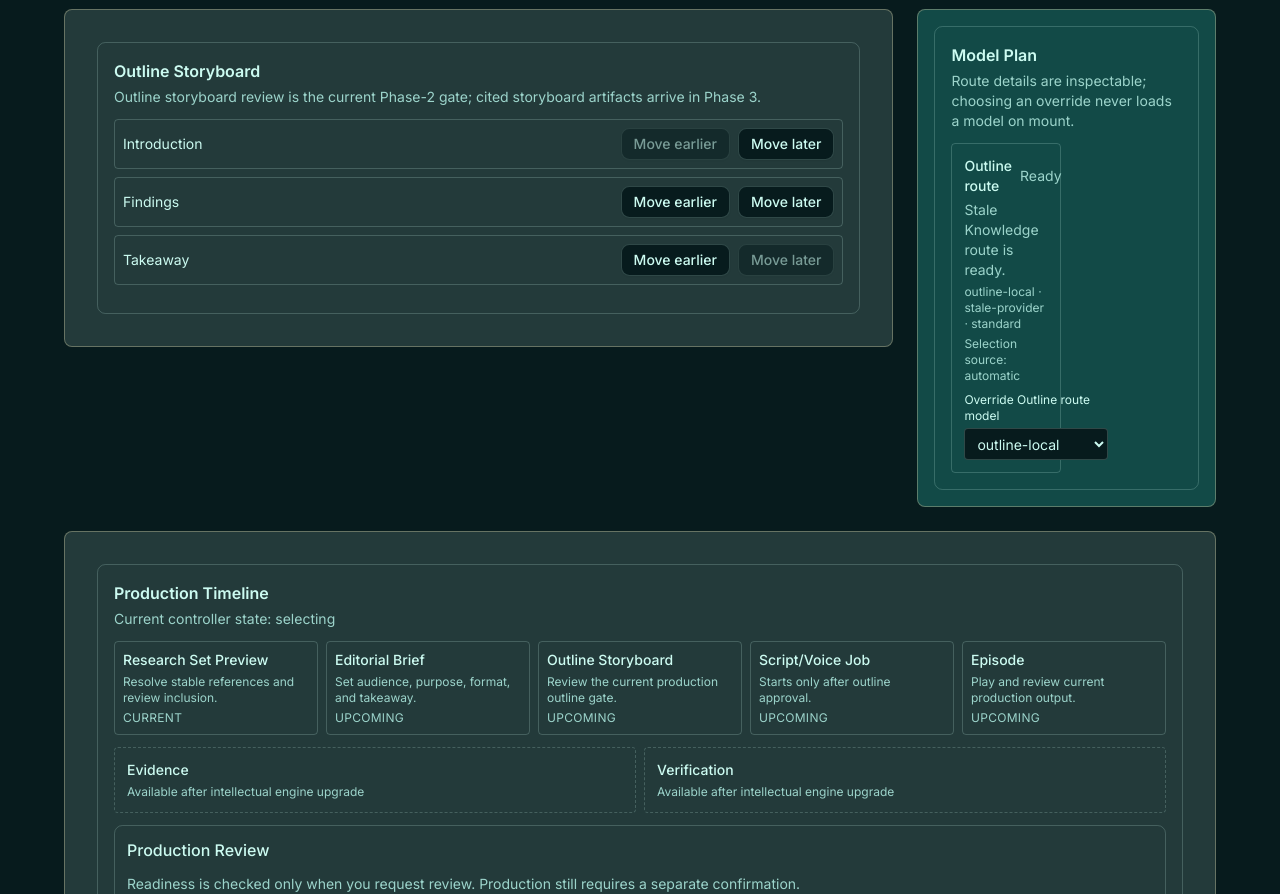
PodcastStudio › uses blocked readiness plans over stale Knowledge plans after an override review
(page scrolled)
Select "outline-alt" in the dropdown labelled "Override Outline route model" at coordinates (1036, 444), box x1=964 y1=428 x2=1108 y2=460
(page scrolled)
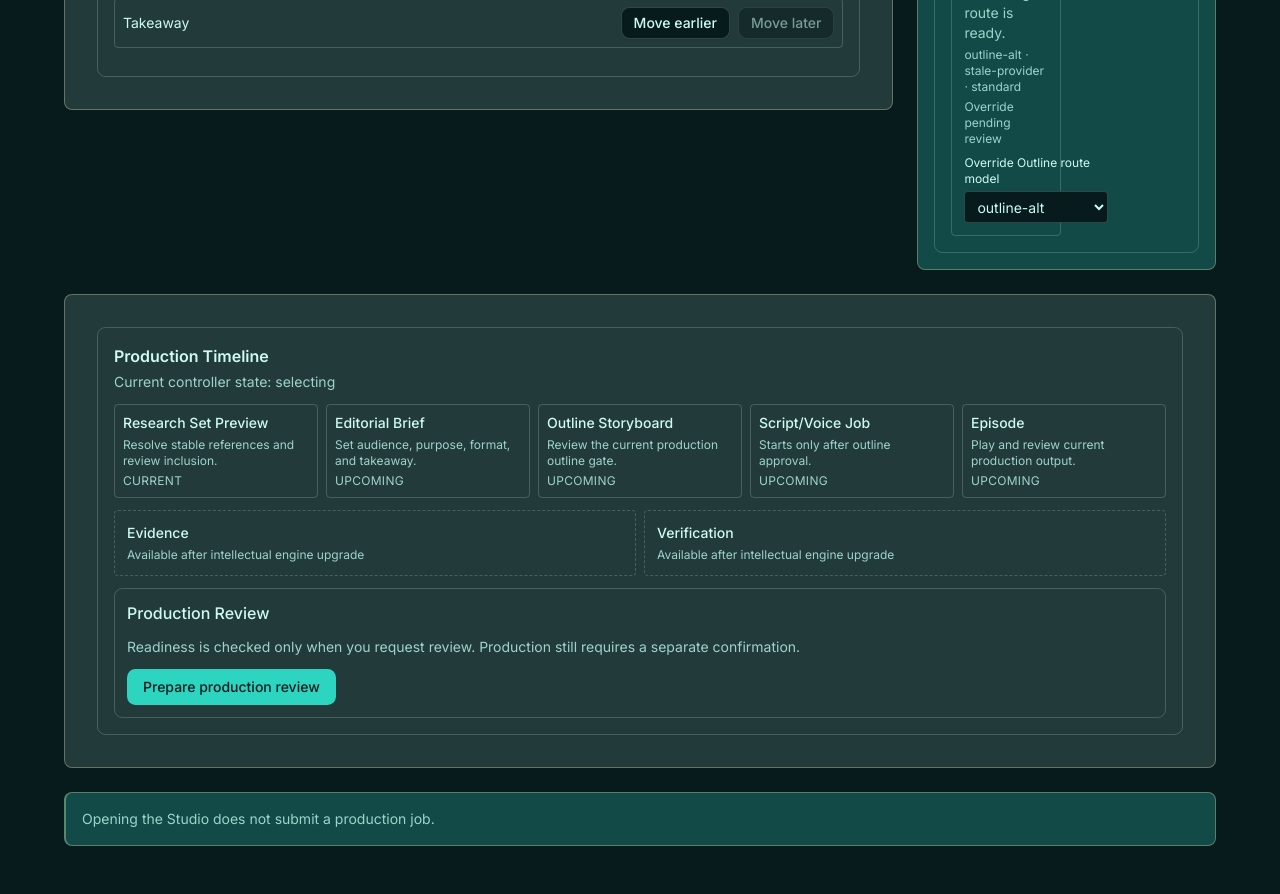
Expected: the text "Override pending review" is shown, x1=964 y1=99 x2=1014 y2=146
Click the button "Prepare production review" at coordinates (231, 687), box x1=127 y1=669 x2=336 y2=705
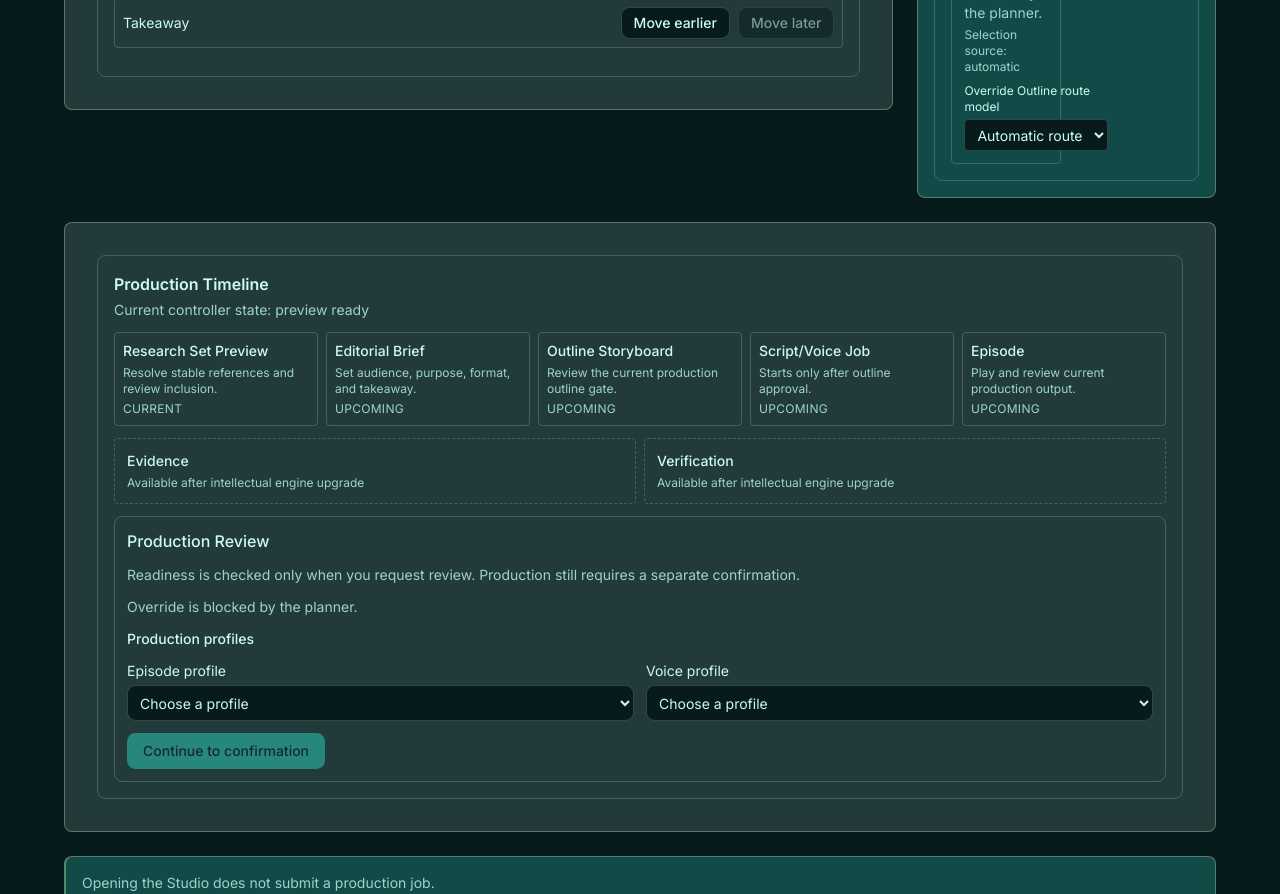
Expected: the text "stale-provider" is gone
Expected: the text "Selection source: automatic" is shown, x1=964 y1=27 x2=1020 y2=74
Expected: the button "Continue to confirmation" is disabled, x1=127 y1=733 x2=325 y2=769
